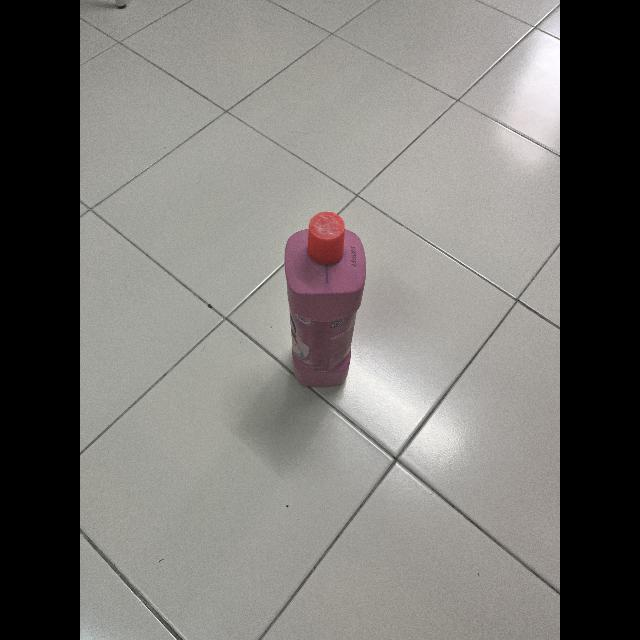chemical_plastic_bottle: (277, 207, 369, 397)
